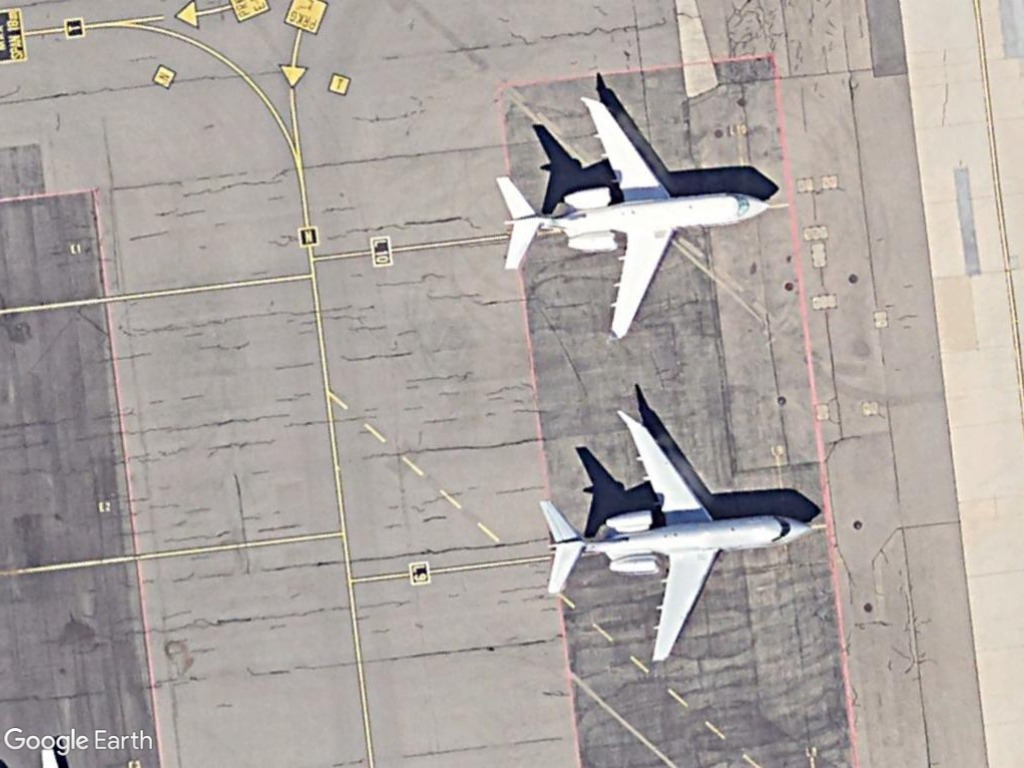chartered: (532, 406, 819, 670), (492, 94, 775, 344)
